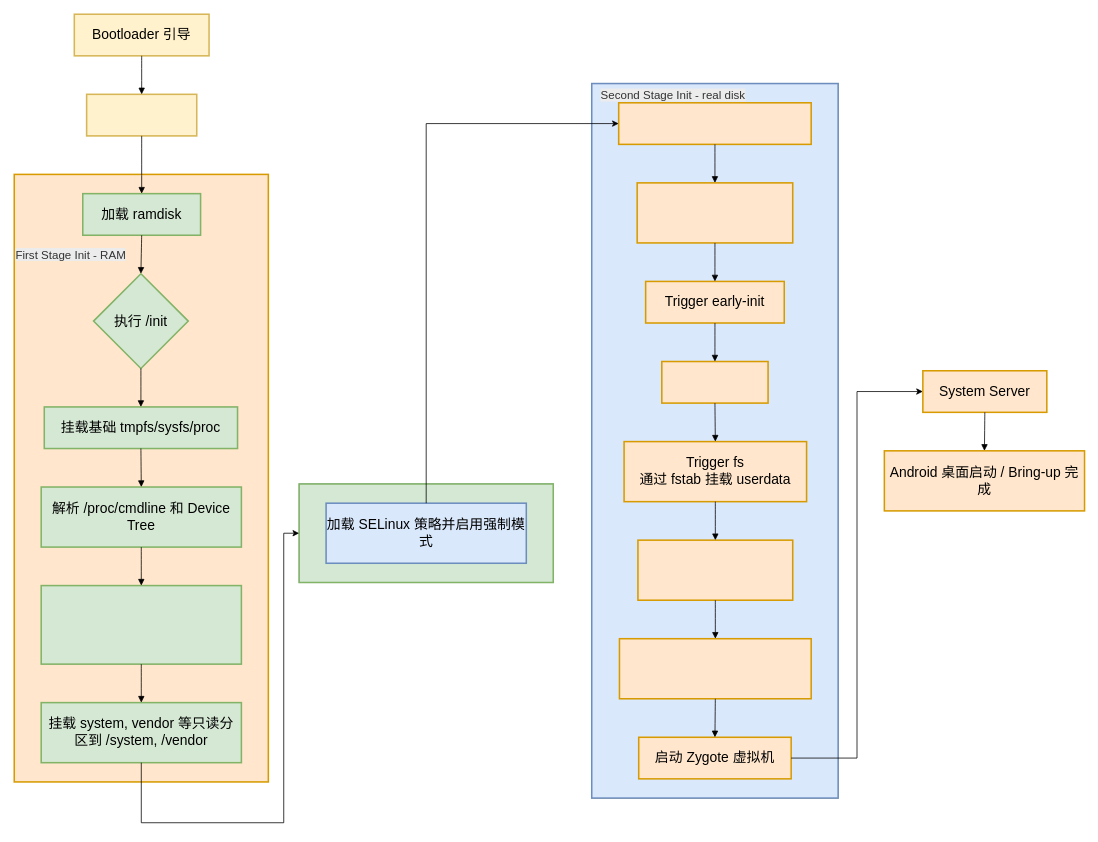
The diagram is 1098 pixels wide and 842 high, and some of its shapes have lost their labels. Here are the shapes that lost their labels. From the top down, the centre of each, then its label:
pixel 141 114: Kernel 启动
pixel 715 123: 重新执行 /system/bin/init
pixel 714 212: 解析所有的 .rc 文件 init.rc, vendor.rc
pixel 714 381: Trigger init
pixel 715 570: Trigger post-fs-data 创建应用数据目录
pixel 141 624: 加载 vendor_boot 中的必需 .ko 驱动 e.g., UFS, Display
pixel 715 668: 启动 Native 服务 Daemons SurfaceFlinger, 各种 HALs
